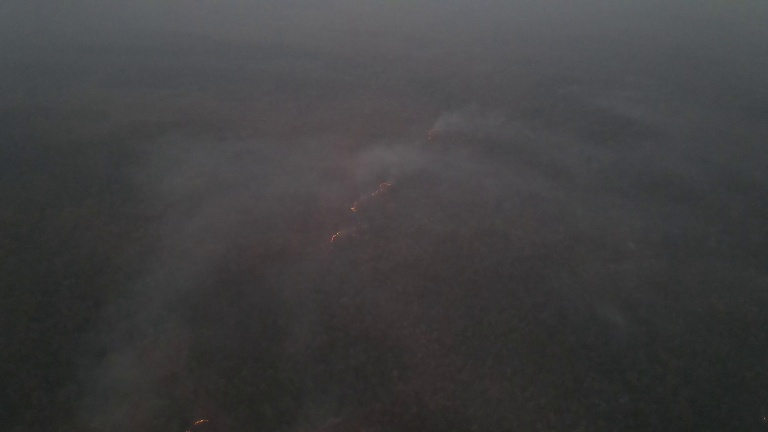fire: (350, 179, 395, 212), (325, 226, 351, 247), (188, 414, 212, 428), (422, 129, 437, 143)
smoke: (346, 142, 439, 180)
